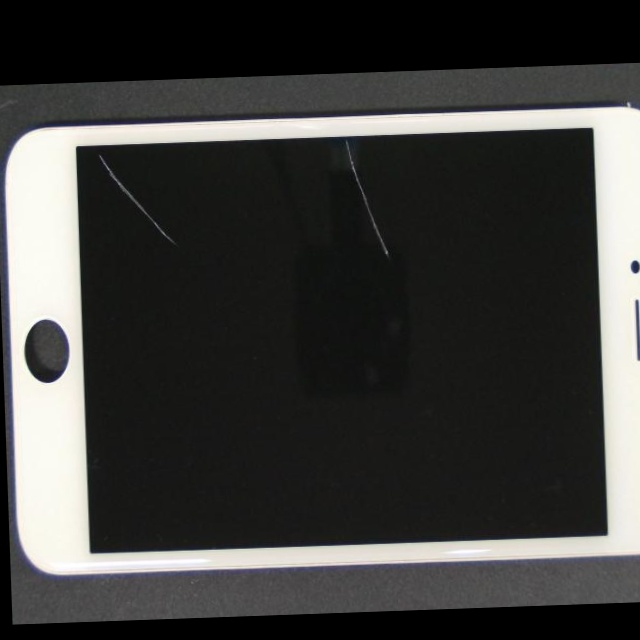scratch: (169, 204, 600, 369), (0, 80, 175, 255)
